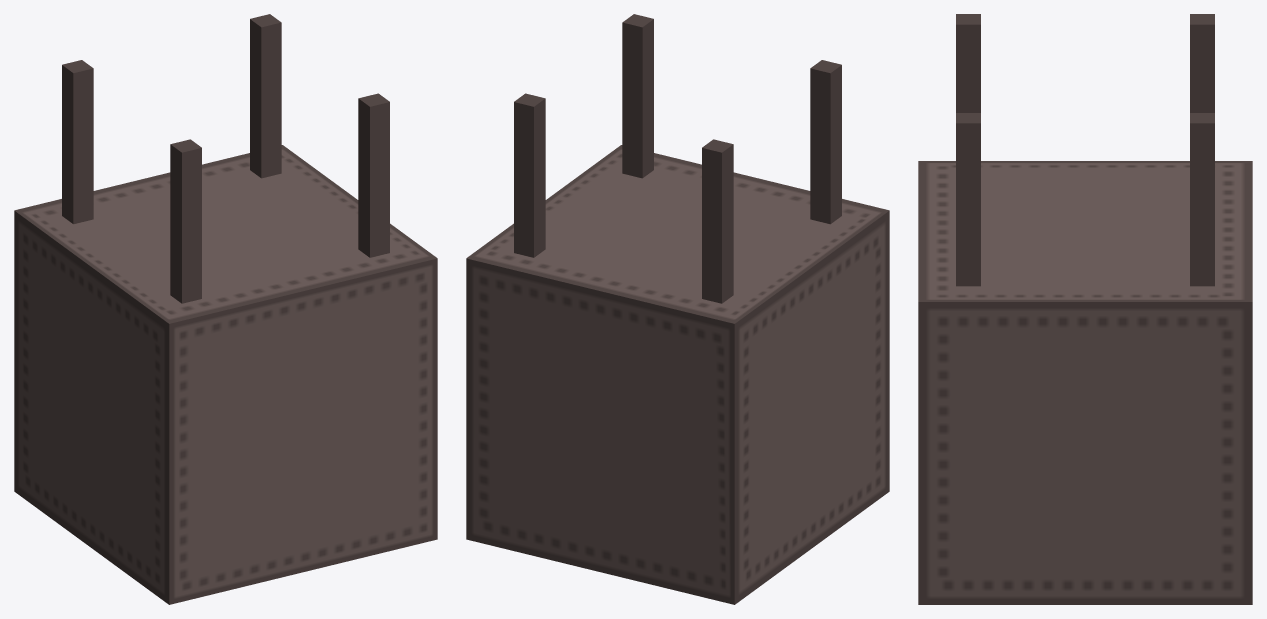
The model's file is Vent_1.fbx.
3 renders of one model, left to right at view 1: azimuth 30°, elevation 25°; view 2: azimuth 150°, elevation 25°; view 3: azimuth 270°, elevation 25°, orthographic. The views are drawn at different scales.
Visible parts, largest first — view 1: Vent_1; view 2: Vent_1; view 3: Vent_1.
Boxes of the visible parts, left/top/right/bottom form: Vent_1: left=14, top=14, right=437, bottom=604; Vent_1: left=466, top=14, right=889, bottom=604; Vent_1: left=918, top=14, right=1252, bottom=604.
Size of the model in its own units: 200 by 308 by 200.
